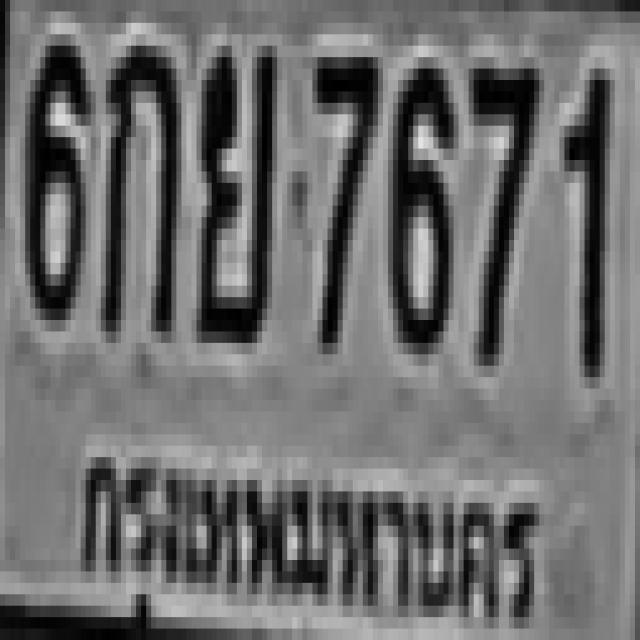1: (559, 57, 605, 366)
10GorGai: (96, 35, 176, 332)
43YorYak: (192, 35, 272, 332)
6: (383, 57, 448, 343), (20, 34, 86, 309)
7: (469, 57, 534, 354), (312, 46, 373, 343)
Bangkok: (61, 421, 544, 640)
